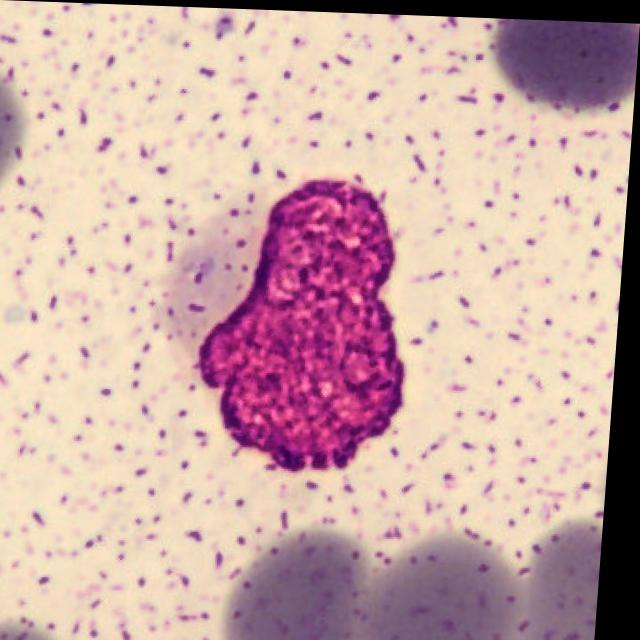Restos celulares: (200, 179, 411, 470)
